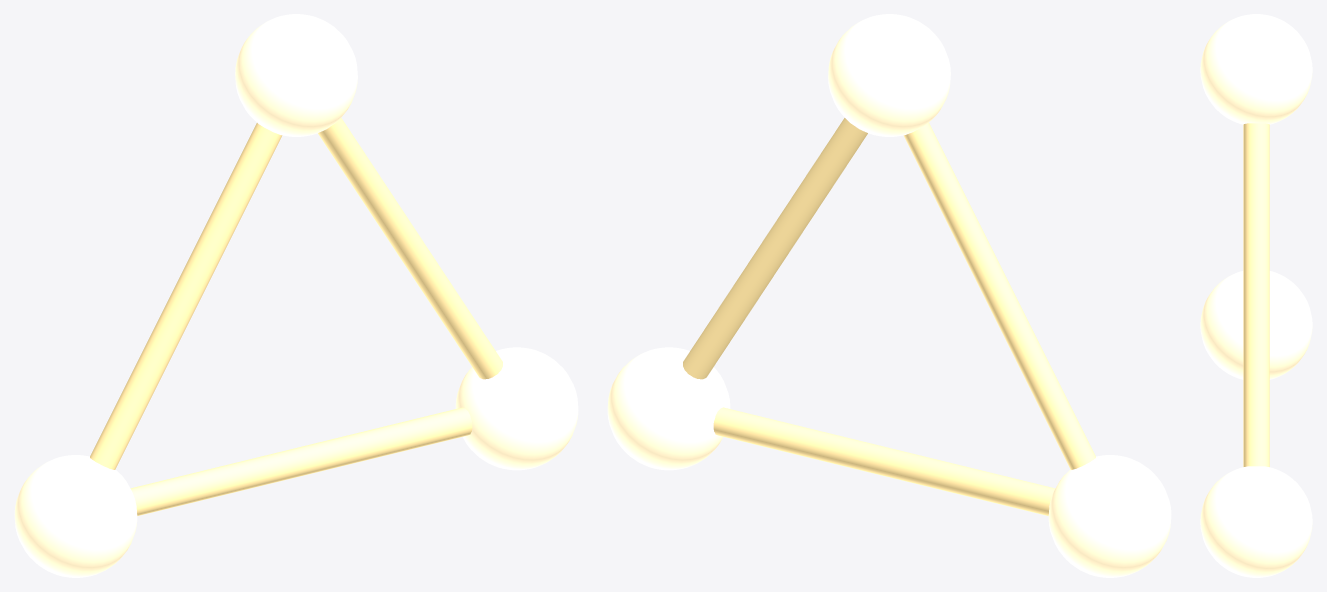
File: mark.glb
The picture shows the model from 3 angles, left to right: view 1: azimuth 30°, elevation 25°; view 2: azimuth 150°, elevation 25°; view 3: azimuth 270°, elevation 25°; orthographic projection. The views are drawn at different scales.
Visible parts, largest first — view 1: mark, edge-0, edge-2, edge-1; view 2: mark, edge-0, edge-2, edge-1; view 3: mark, edge-1.
Part boxes in pixels (left/top/right/bottom): mark: left=14, top=14, right=578, bottom=577; edge-0: left=90, top=123, right=282, bottom=469; edge-2: left=130, top=407, right=472, bottom=515; edge-1: left=318, top=118, right=502, bottom=379; mark: left=607, top=14, right=1171, bottom=577; edge-0: left=903, top=123, right=1095, bottom=469; edge-2: left=713, top=407, right=1055, bottom=515; edge-1: left=683, top=118, right=867, bottom=379; mark: left=1200, top=14, right=1312, bottom=577; edge-1: left=1243, top=123, right=1269, bottom=466.
Size of the model in its own units: 1.54 by 1.34 by 0.3.
